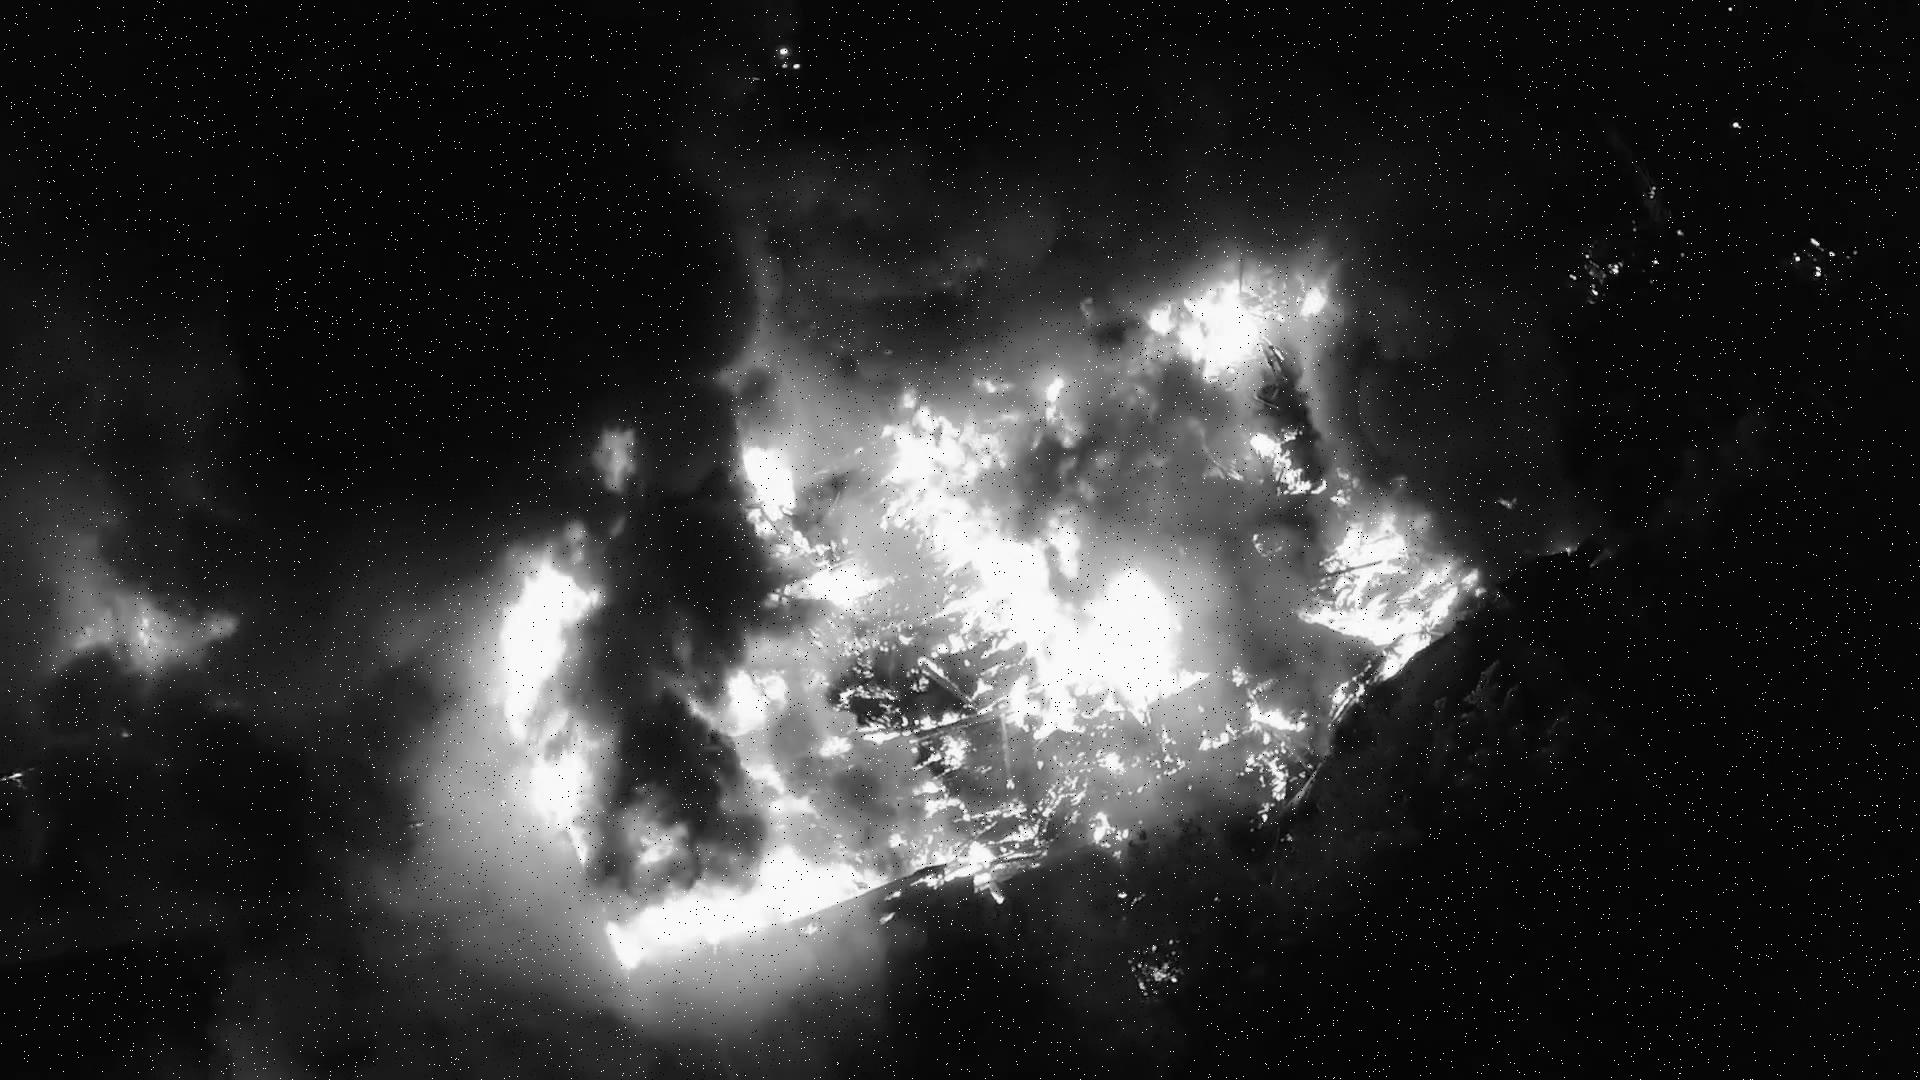fire: (444, 229, 1516, 972)
